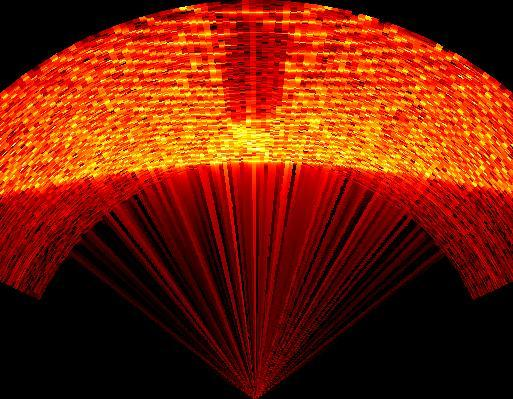box_crate: (220, 16, 288, 125)
